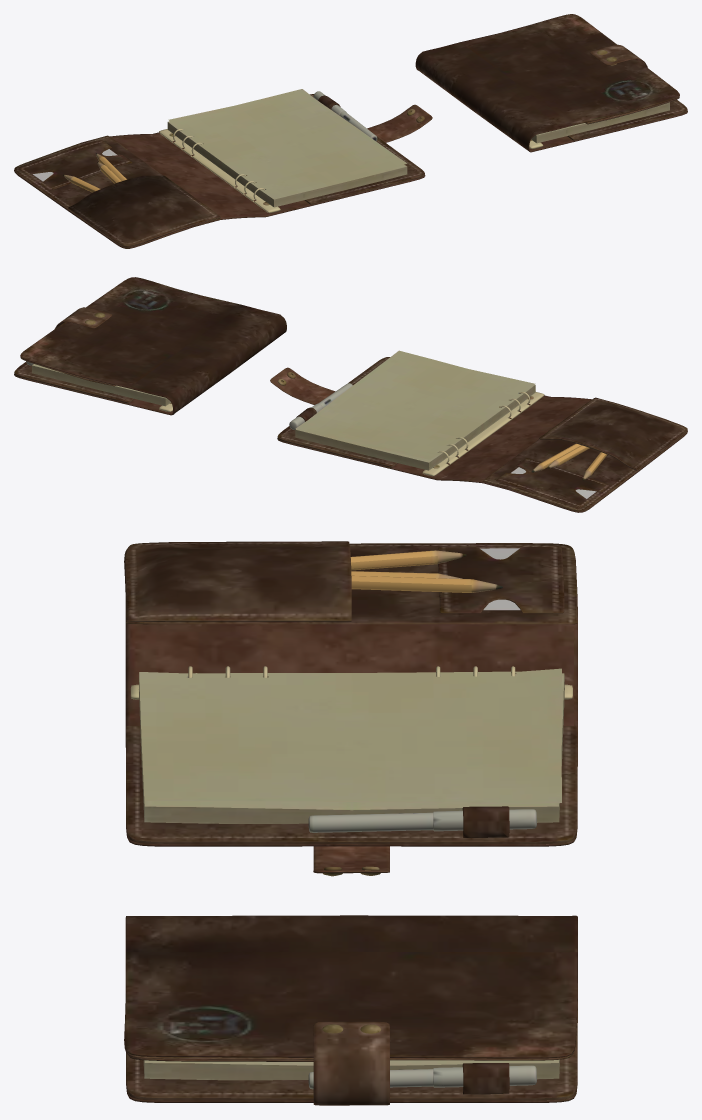
The model's file is binder_notebook.glb.
3 views of the same model, one above another, from view 1: azimuth 30°, elevation 25°; view 2: azimuth 150°, elevation 25°; view 3: azimuth 270°, elevation 25° (orthographic). The views are drawn at different scales.
Parts seen in each view (by area): view 1: binder_notebook; view 2: binder_notebook; view 3: binder_notebook.
Boxes of the visible parts, box(x1,y1,x2,y2) form: binder_notebook: box(14, 14, 687, 248); binder_notebook: box(14, 277, 687, 512); binder_notebook: box(124, 541, 577, 1105).
Size of the model in its own units: 0.584 by 0.0253 by 0.2.
1 material, 1 textured.
